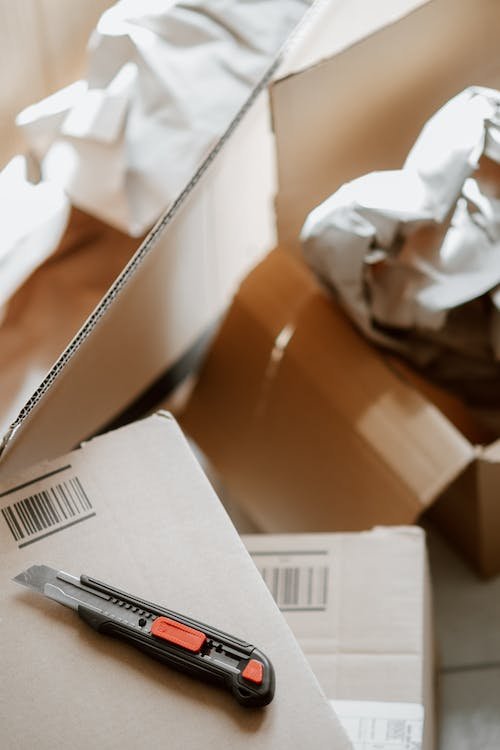knife: (8, 561, 279, 715)
